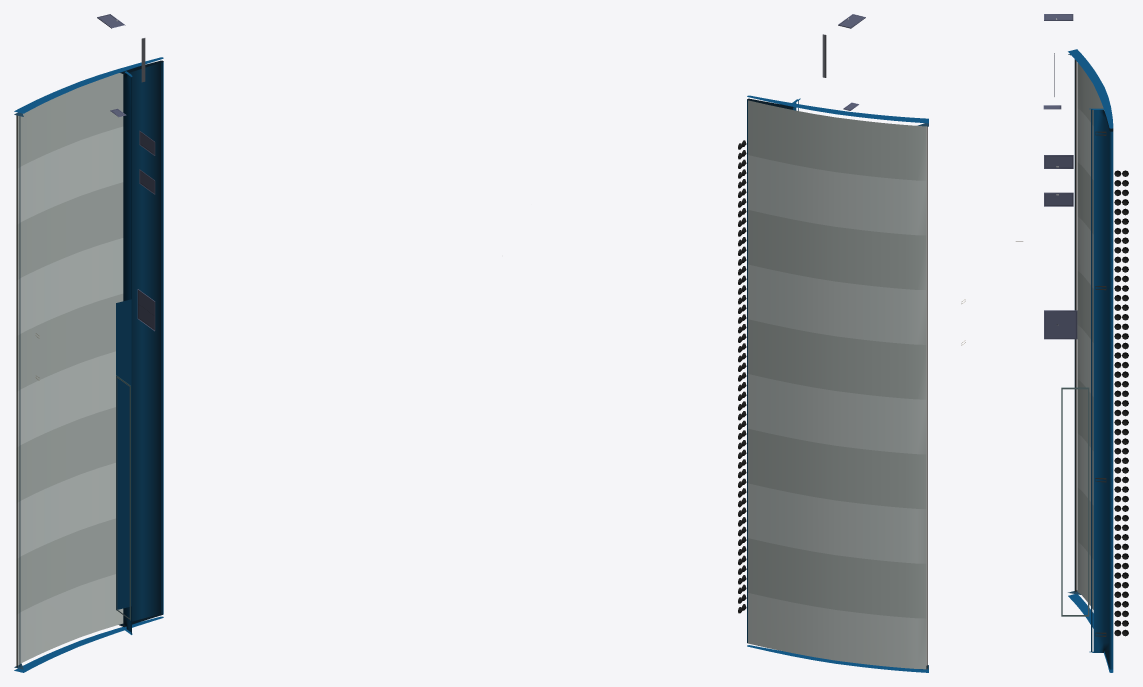
The model's file is SM_000215_merge_metal01.fbx.
3 views of the same model, side by side, from view 1: azimuth 30°, elevation 25°; view 2: azimuth 150°, elevation 25°; view 3: azimuth 270°, elevation 25° (orthographic). The views are drawn at different scales.
Visible parts, largest first — view 1: SM_000215.001; view 2: SM_000215.001; view 3: SM_000215.001.
Boxes of the visible parts, left/top/right/bottom form: SM_000215.001: left=14, top=14, right=163, bottom=672; SM_000215.001: left=738, top=14, right=965, bottom=672; SM_000215.001: left=1016, top=14, right=1128, bottom=672.
Bounding box in the file's own units: 37.58 × 50.46 × 9.97.
